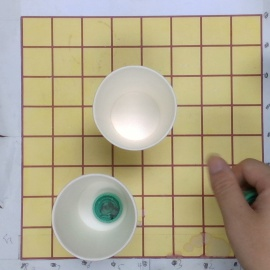cup: (91, 65, 177, 151)
cup_green: (51, 174, 139, 261)
